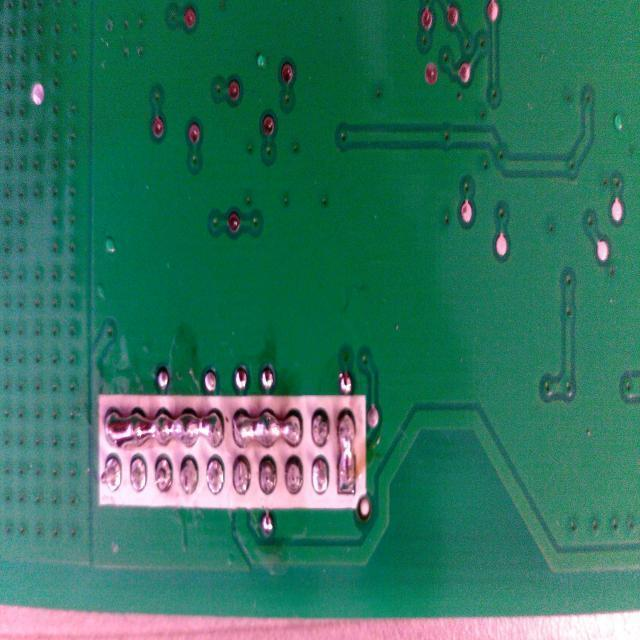Soldering shorted: (100, 398, 225, 451), (229, 396, 306, 451), (330, 408, 358, 501)
